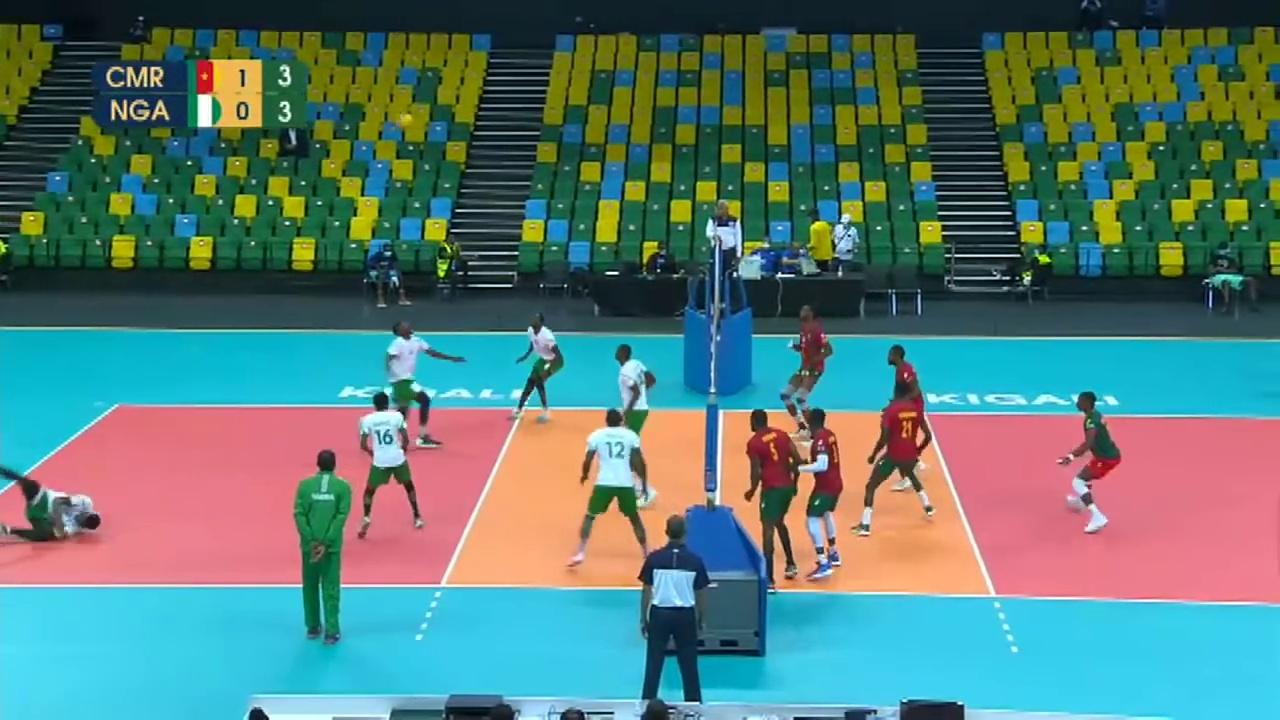player: (567, 412, 656, 565), (857, 381, 942, 541), (737, 403, 806, 583), (378, 320, 466, 449), (791, 407, 855, 583), (355, 391, 428, 540), (0, 464, 119, 549), (1058, 390, 1124, 535), (606, 343, 663, 508), (879, 346, 929, 491), (511, 315, 564, 418), (785, 303, 832, 419)
refree: (633, 510, 717, 719), (704, 199, 746, 301)
